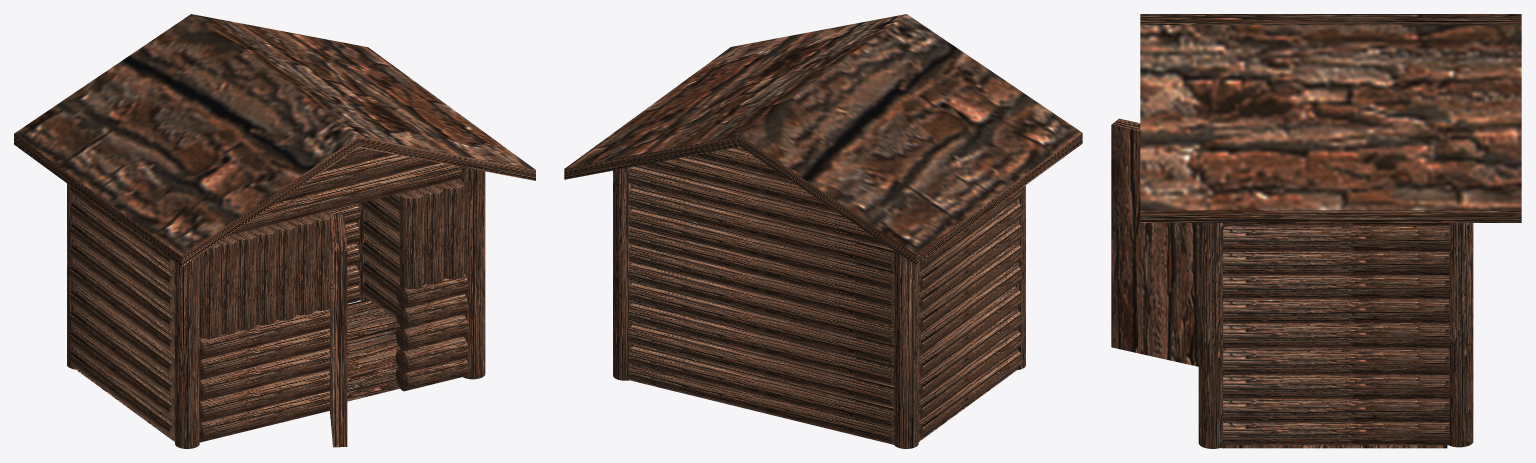
Rendered from CabinV3.fbx.
3 renders of one model, left to right at view 1: azimuth 30°, elevation 25°; view 2: azimuth 150°, elevation 25°; view 3: azimuth 270°, elevation 25°, orthographic. The views are drawn at different scales.
Visible parts, largest first — view 1: roof, Horiziontal Logs, Vertical Logs, Plane, Door; view 2: Horiziontal Logs, roof, Vertical Logs; view 3: roof, Horiziontal Logs, Door, Vertical Logs, Plane.
Boxes of the visible parts, x1,y1,x2,y2 form: roof: (14, 14, 535, 267); Horiziontal Logs: (70, 148, 468, 442); Vertical Logs: (67, 167, 485, 448); Plane: (77, 299, 400, 441); Door: (329, 214, 347, 447); Horiziontal Logs: (628, 147, 1022, 444); roof: (564, 14, 1082, 265); Vertical Logs: (613, 167, 1025, 448); roof: (1140, 14, 1521, 222); Horiziontal Logs: (1223, 223, 1449, 445); Door: (1111, 118, 1198, 366); Vertical Logs: (1198, 223, 1473, 448); Plane: (1221, 445, 1447, 448).
Size of the model in its own units: 1645 by 1328 by 1451.
6 materials, 6 textured.
